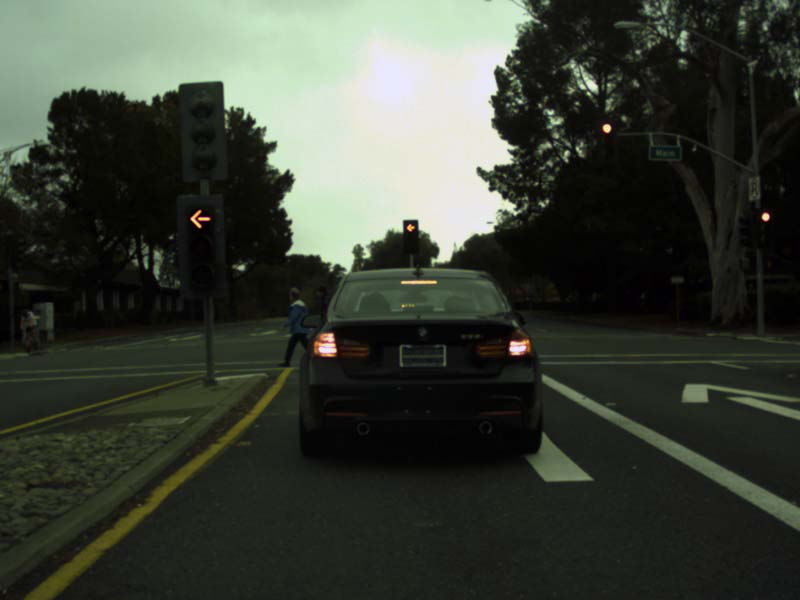Red: (178, 196, 232, 296), (595, 120, 617, 161), (755, 209, 774, 246), (403, 220, 418, 252)
